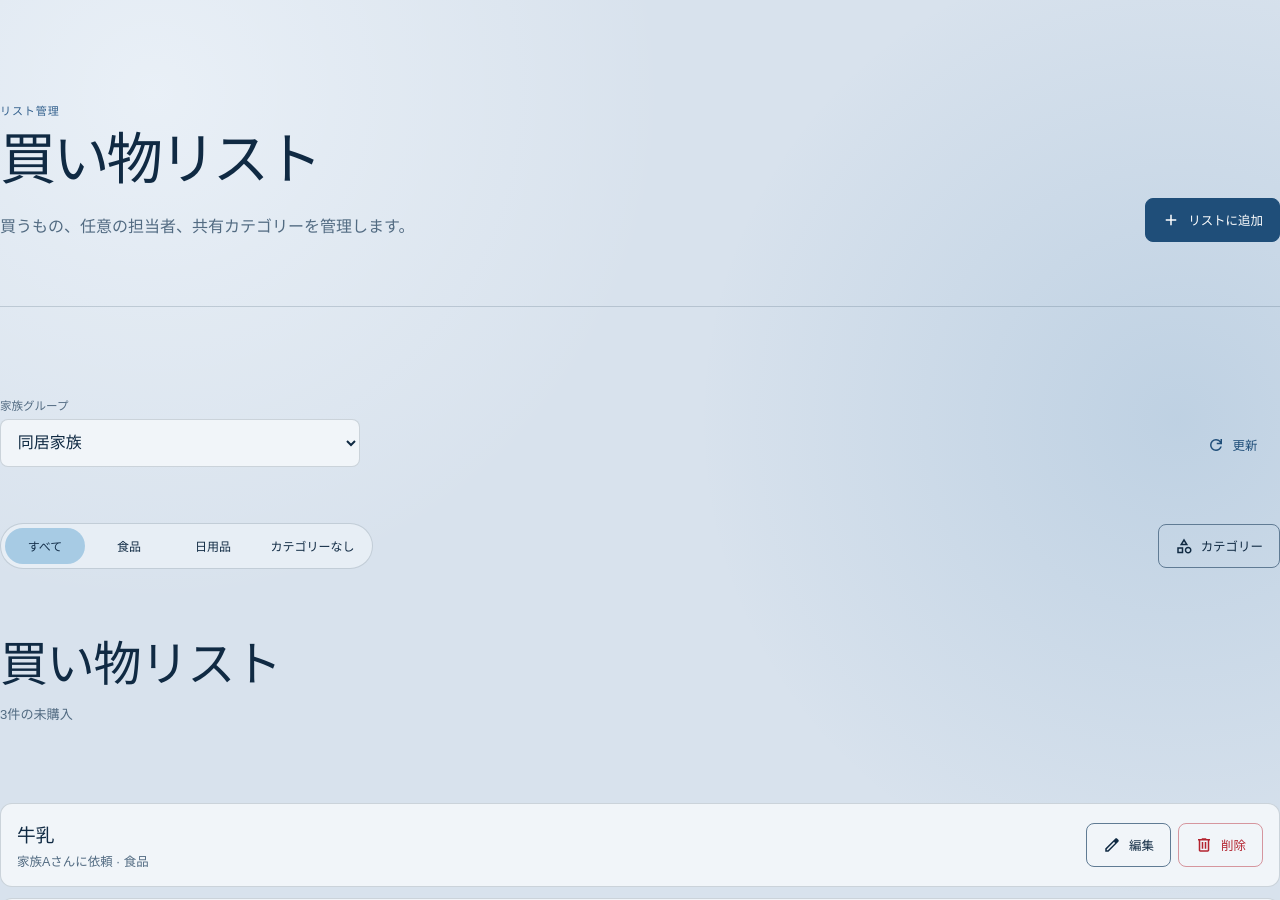
it: ShoppingListPage › keeps category management out of the list until opened
Step 1. Click the button "カテゴリー" → (1219, 546), box [1158, 524, 1279, 568]
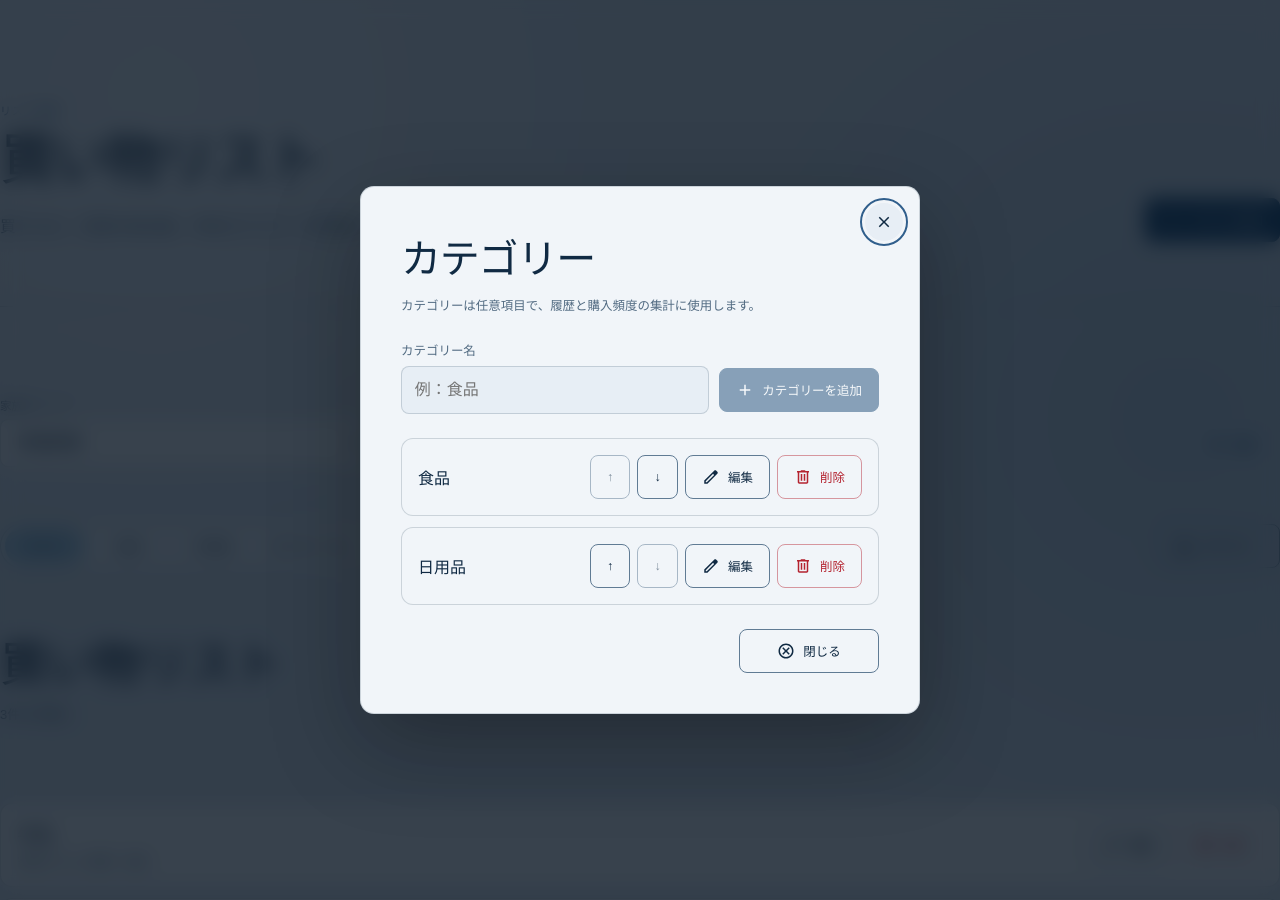
Now the dialog "カテゴリー" is shown
